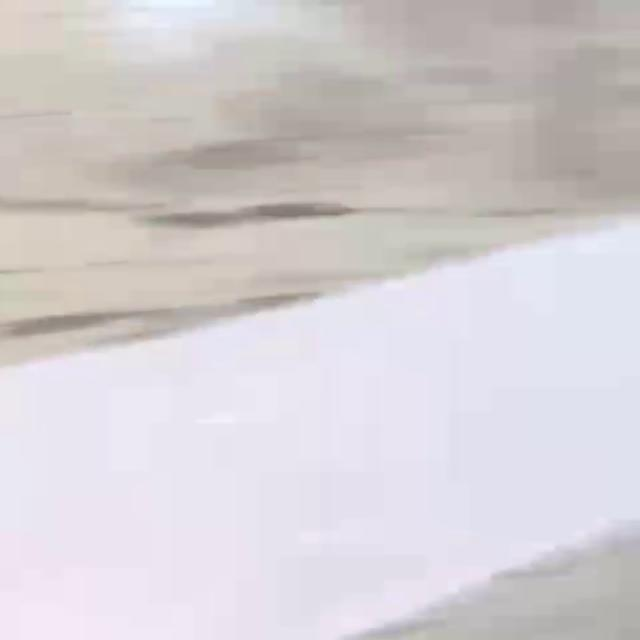road: (3, 224, 637, 640)
